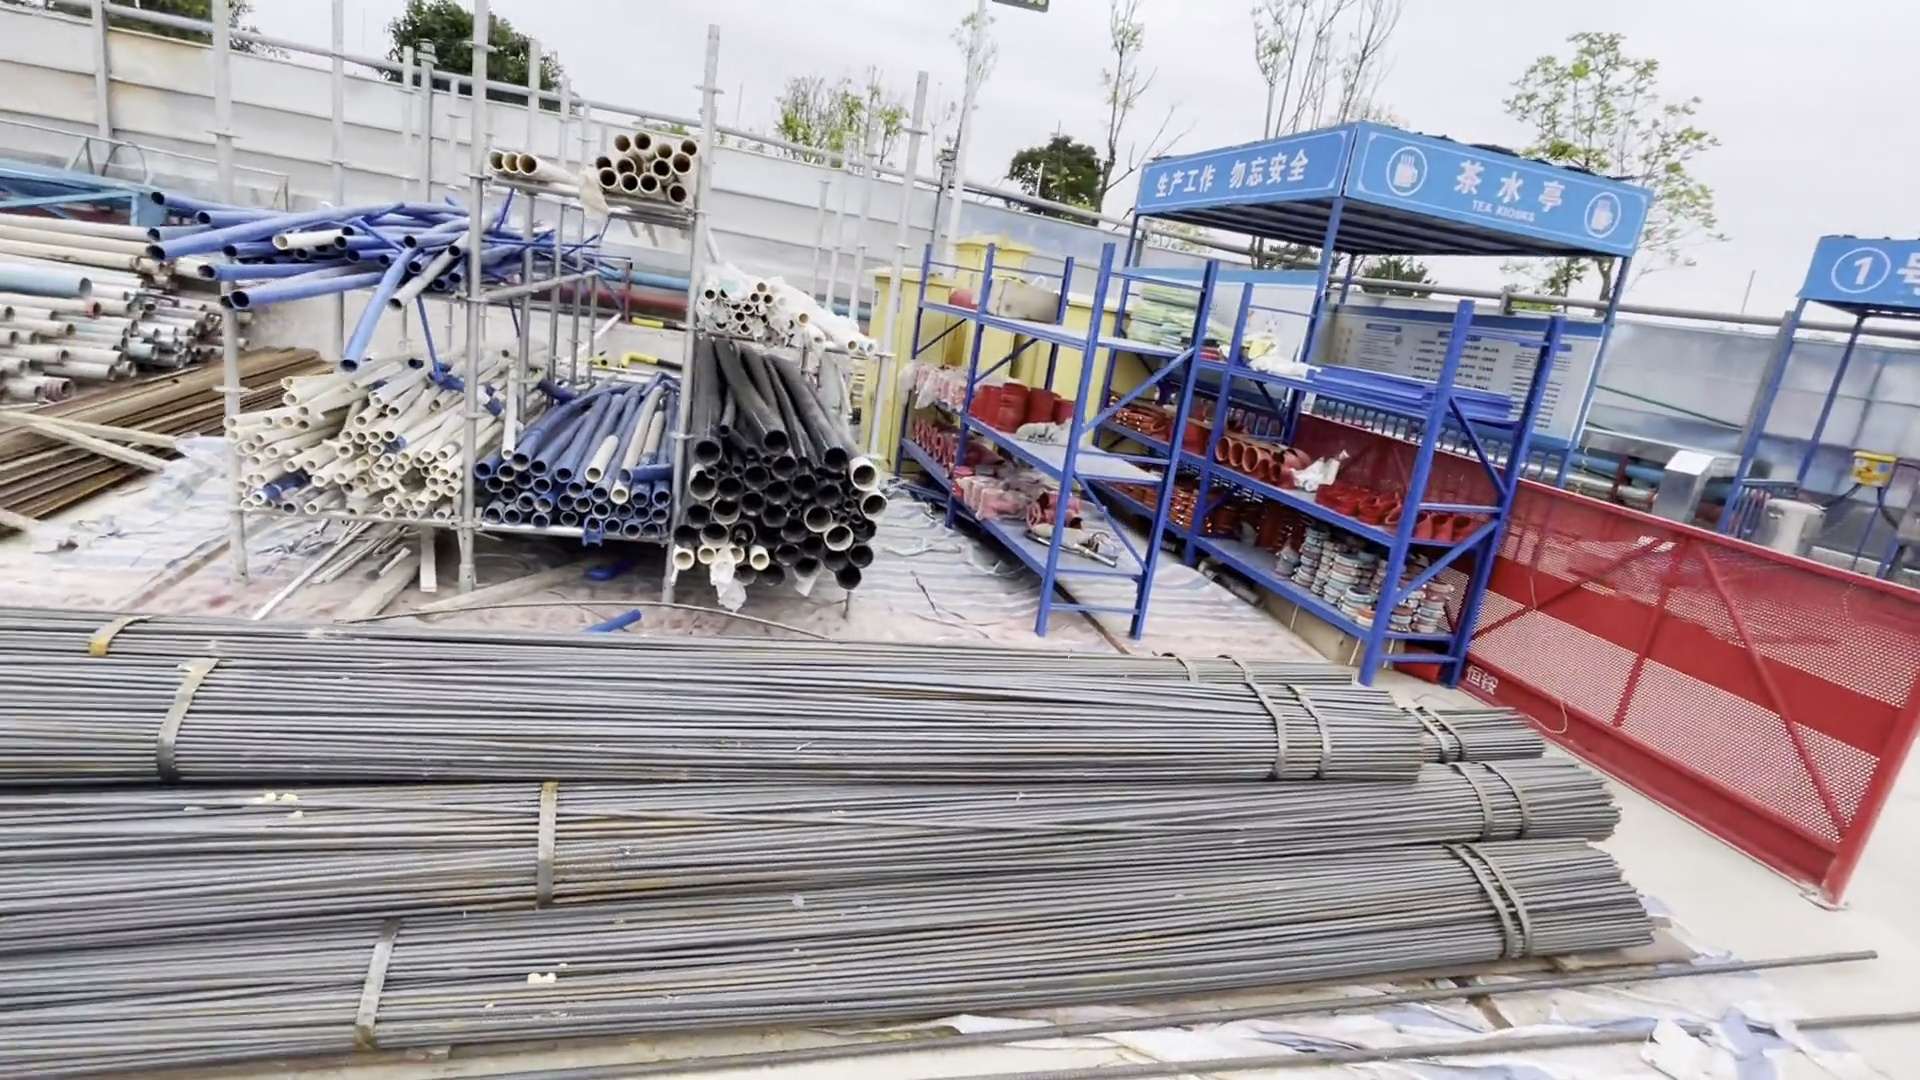ebox: (858, 260, 940, 465), (1014, 287, 1106, 462), (942, 229, 1021, 396)
fence: (1465, 473, 1920, 913)
rebar: (5, 659, 1588, 1080)
slogan: (1150, 156, 1308, 204)
